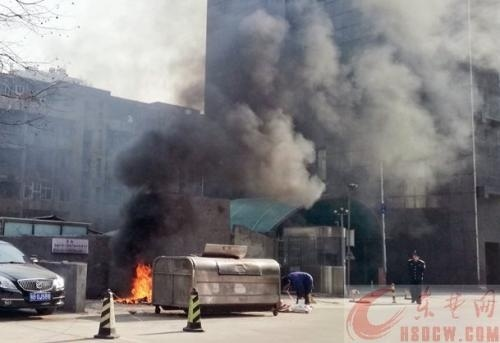fire: (116, 258, 156, 303)
